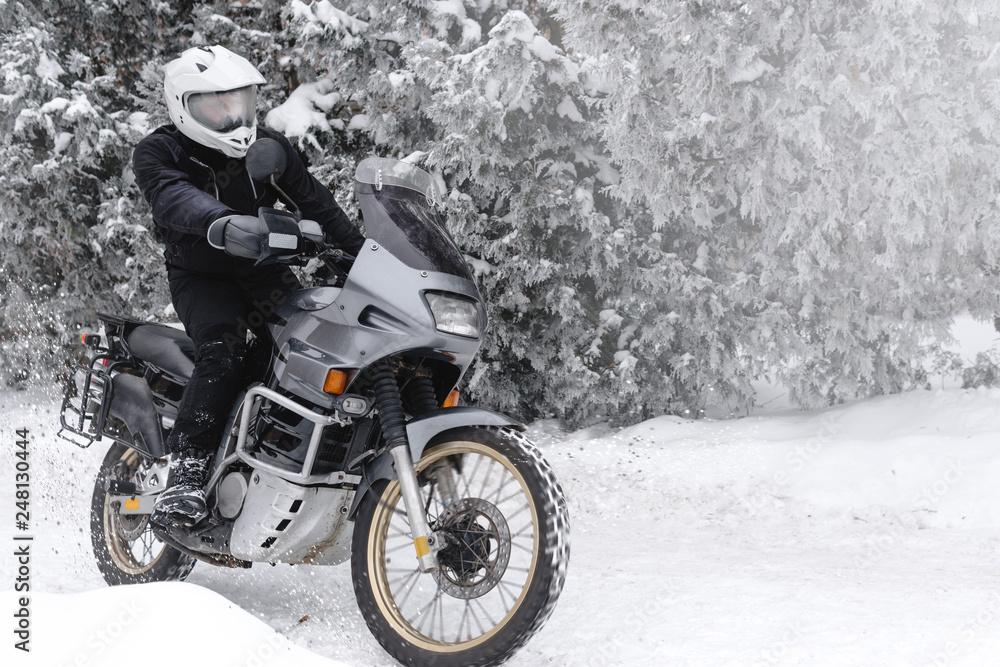helmet: (163, 44, 268, 160)
